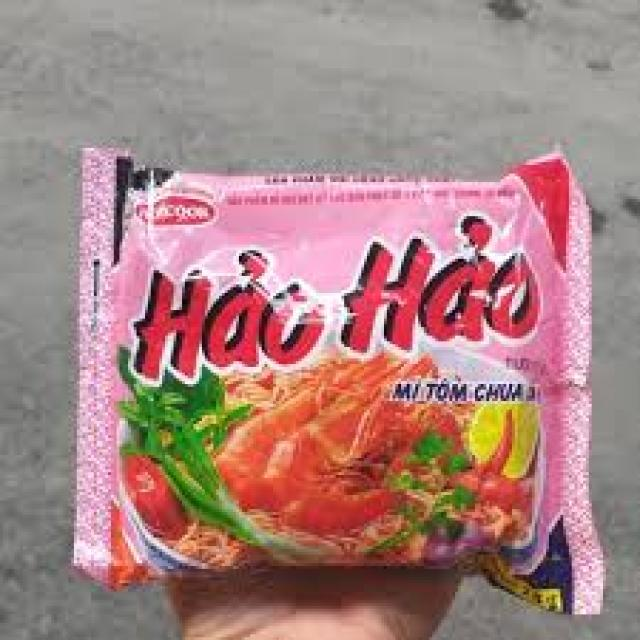mi hao hao: (59, 129, 616, 624)
